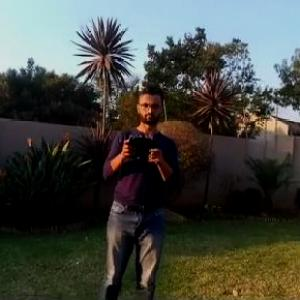follow: (93, 78, 184, 299)
